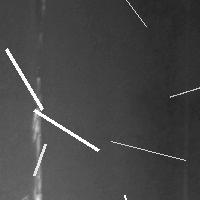scratches: (29, 105, 103, 155), (1, 44, 47, 114), (106, 136, 190, 165), (28, 76, 45, 200), (102, 0, 151, 31), (165, 67, 200, 101), (29, 139, 50, 180), (119, 190, 142, 200)
